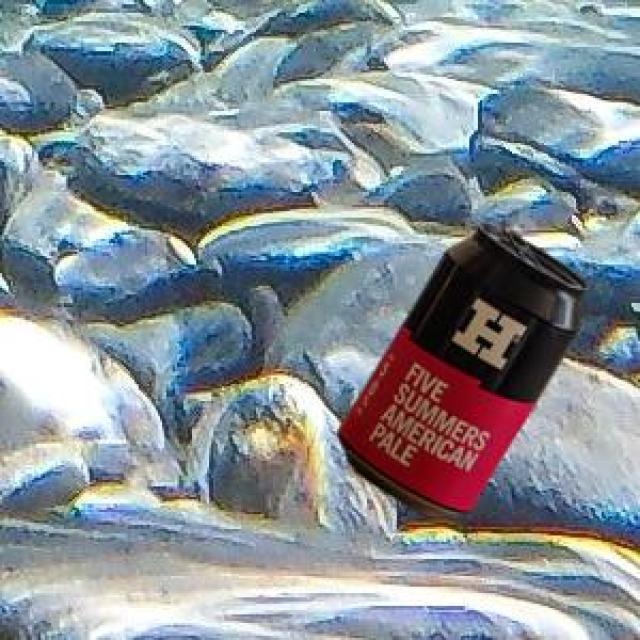Can: (336, 221, 583, 513)
